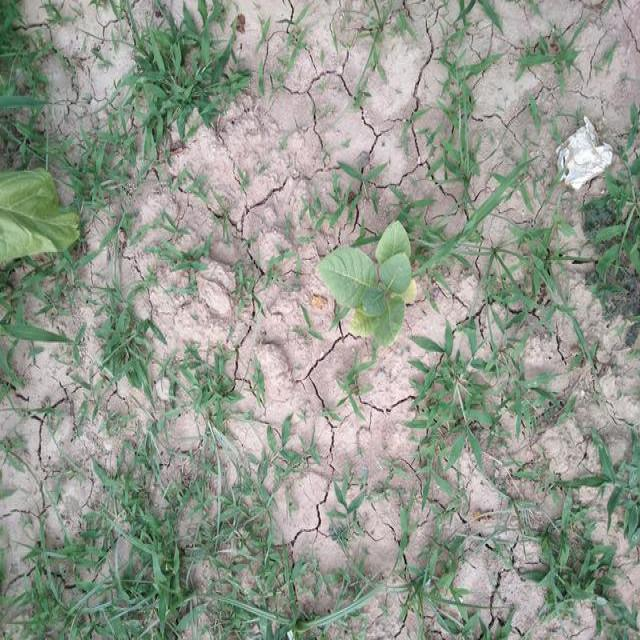crop: (310, 207, 427, 355)
